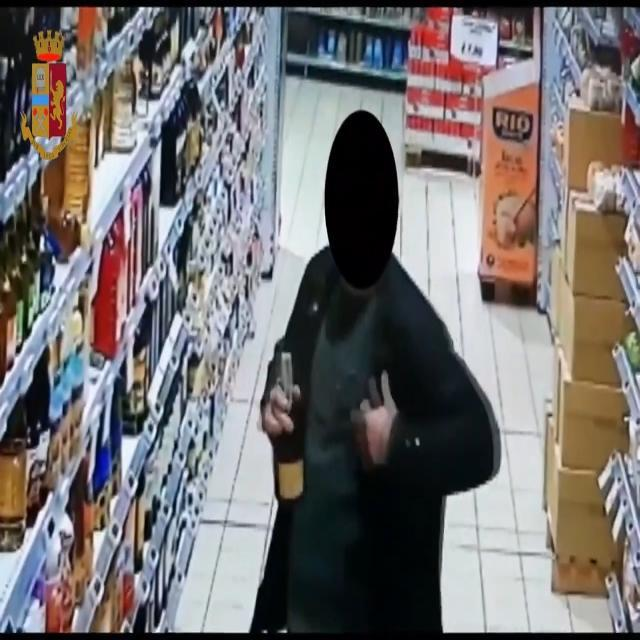Shoplifting: (247, 220, 469, 631)
